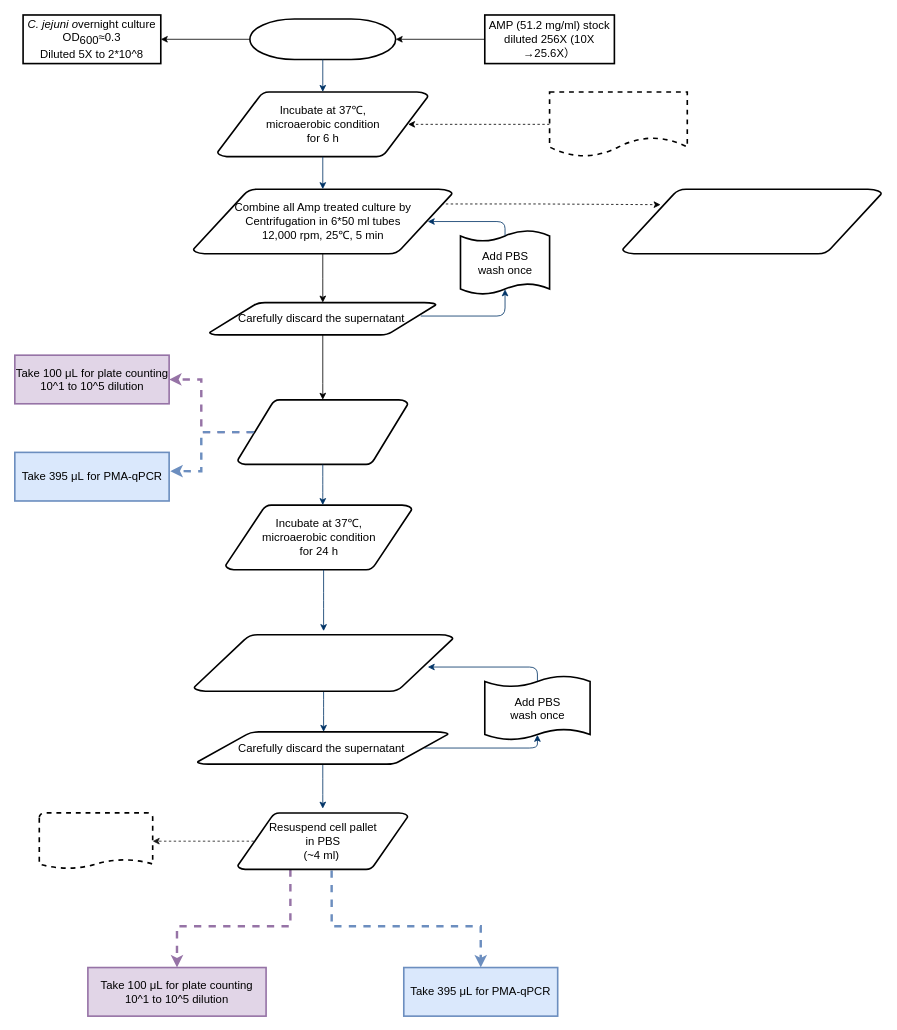
Image size: 897x1030. Some labels were removed from this diagram. Each missing label, with the box of its shape:
C. jejuni + 100 ug/ml Amp: (249, 18, 396, 60)
Collect induced cell by Centrifugation in 50 ml tubes 12,000 rpm, 25℃, 5 min: (193, 633, 454, 692)
Make about 200-250 ml: (548, 91, 688, 157)
Resuspend cell pallet in 7% NaCl (~210 ml): (237, 399, 408, 465)
Use Corning tubes Fill 35 mL of each: (621, 188, 882, 254)
~50X concentrated: (38, 812, 153, 870)
